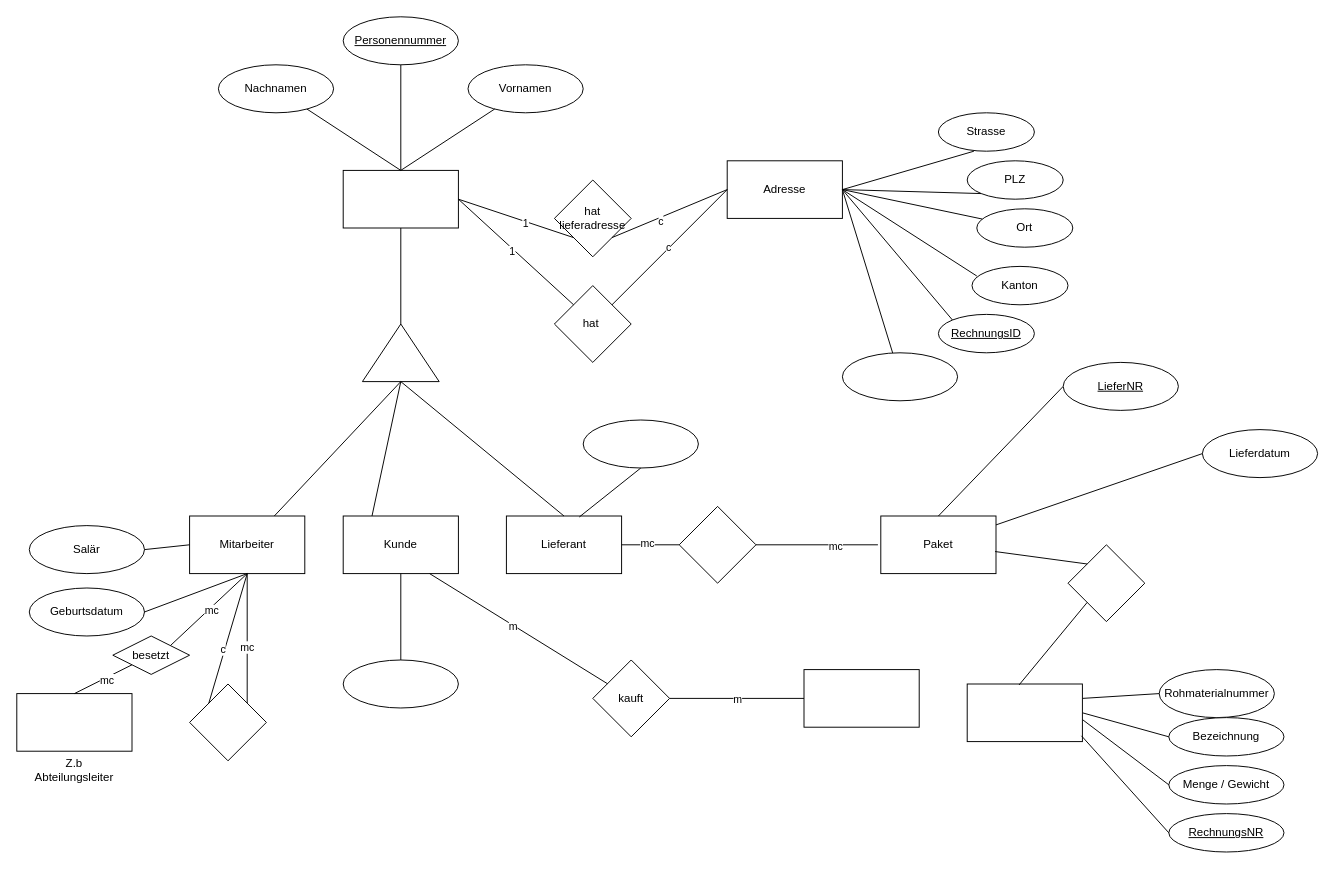
This 1334x869 diagram has some shape labels left out. Each missing label, with the box of its shape:
AdressenID: (841, 352, 958, 401)
beihnaltet: (1067, 544, 1145, 622)
Funktion: (16, 693, 132, 751)
Inhalt: (966, 683, 1082, 742)
is a: (361, 323, 439, 382)
Kurier: (582, 419, 698, 468)
liefert: (678, 505, 756, 583)
Person: (342, 169, 458, 228)
Rabatt: (342, 659, 458, 708)
vorgesetzter: (189, 683, 266, 761)
Werkzeug: (803, 669, 919, 727)
